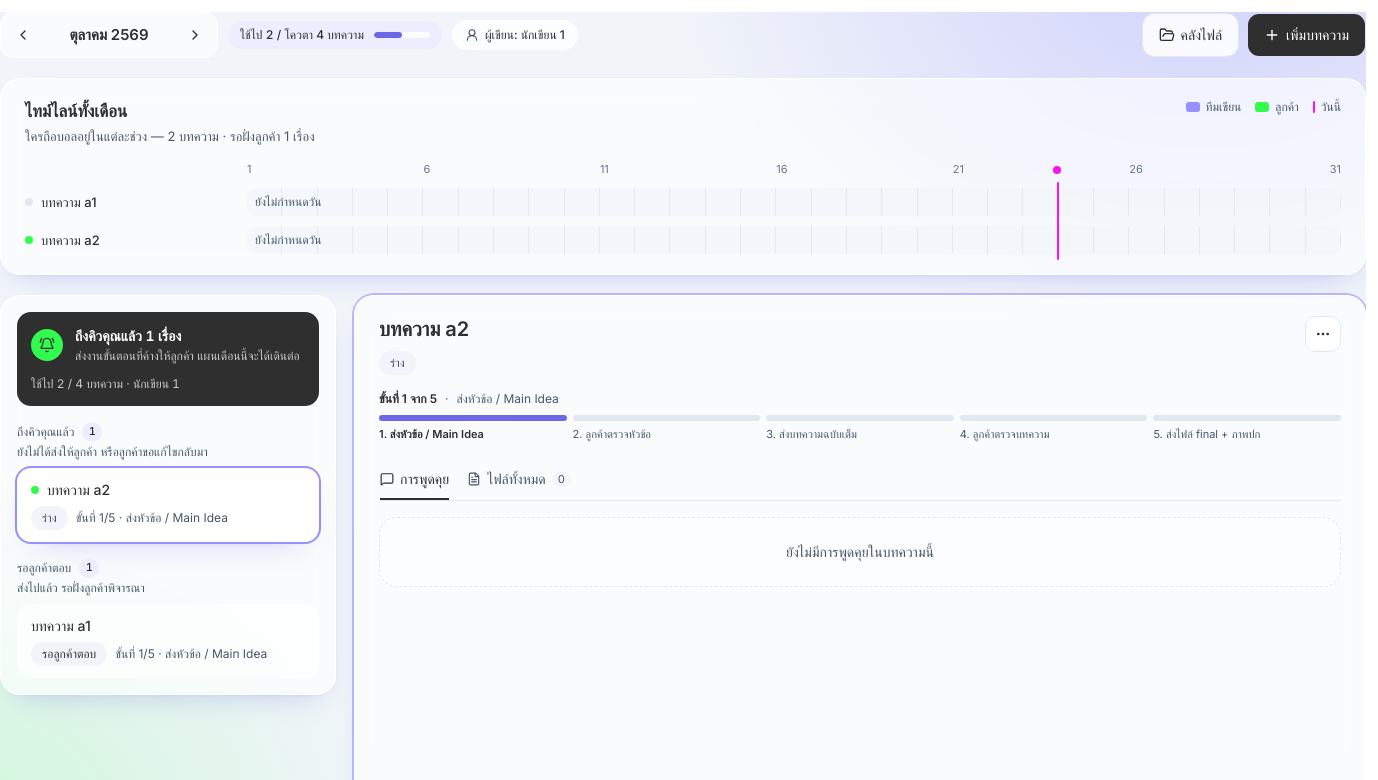
Test: BlogPlanBoard › คลิกเรื่องในลิสต์ซ้าย = URL เปลี่ยนและแผงขวาสลับเรื่องตาม
Click the button "บทความ a1 รอลูกค้าตอบ ขั้นที่ 1/5 · ส่งหัวข้อ / Main Idea": (61,626) x1=17 y1=604 x2=319 y2=678
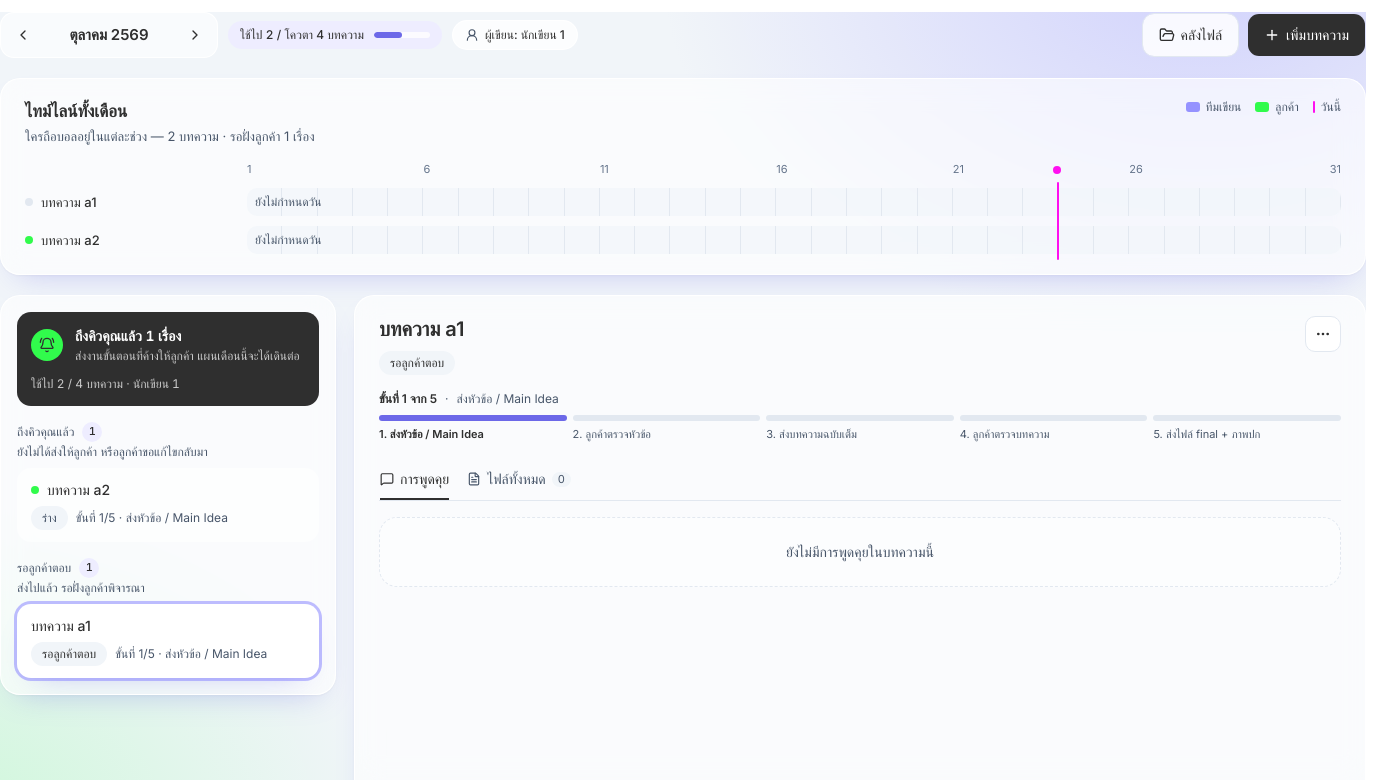
expect the heading "บทความ a1" is shown: met, box x1=379 y1=317 x2=464 y2=341
